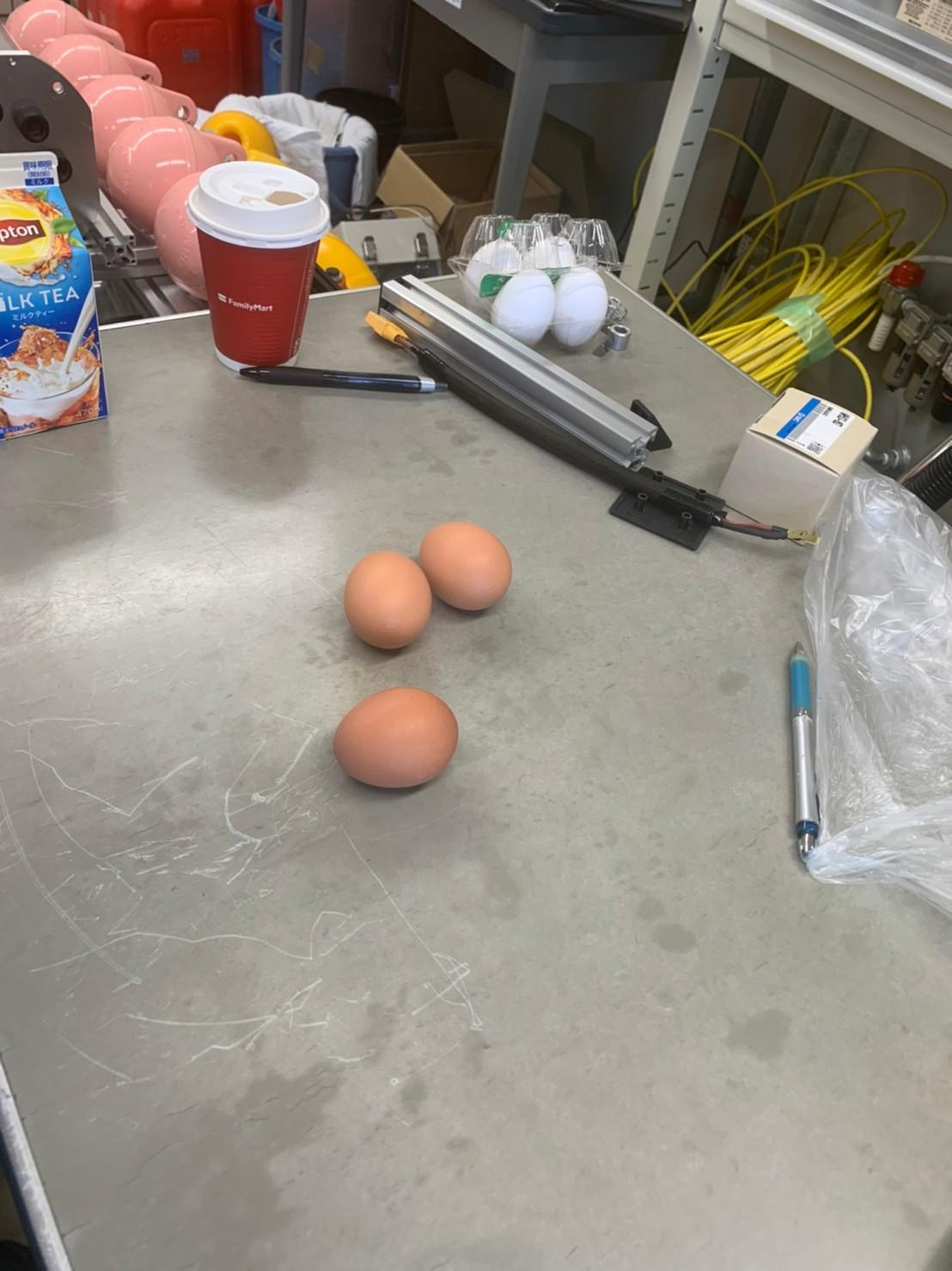egg: (328, 680, 458, 797), (339, 543, 429, 656), (420, 514, 514, 620)
